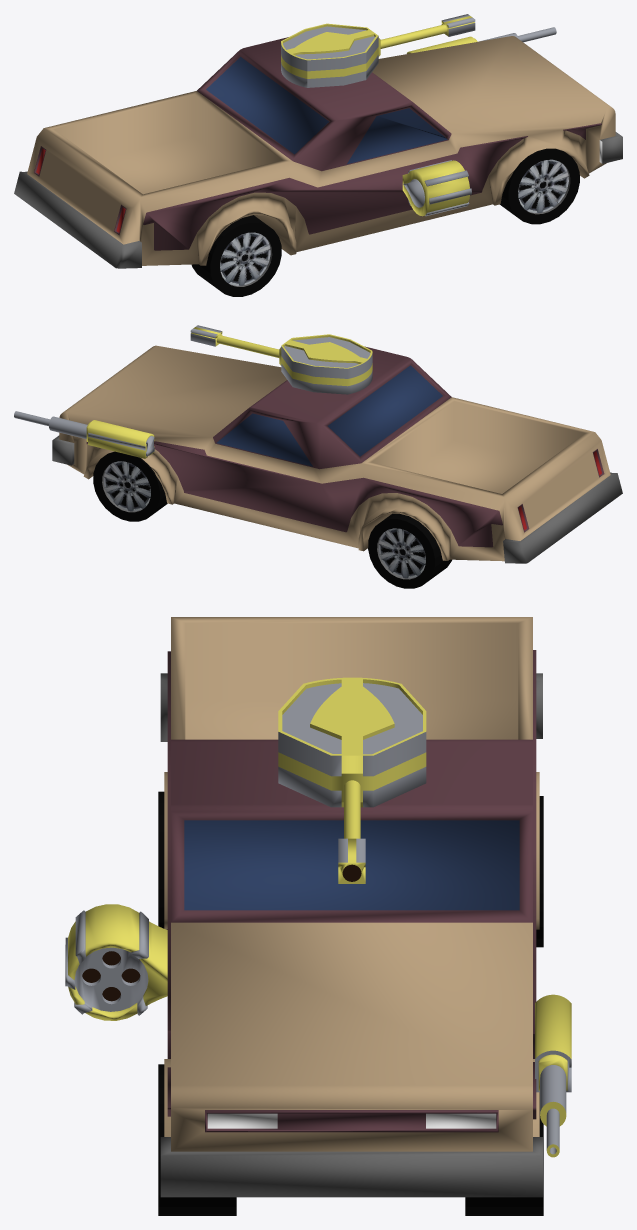
The model's file is Gina Togo.obj.
3 views of the same model, one above another, from view 1: azimuth 30°, elevation 25°; view 2: azimuth 150°, elevation 25°; view 3: azimuth 270°, elevation 25° (orthographic). The views are drawn at different scales.
Visible parts, largest first — view 1: Mesh1 Group3 Group2 Group1 Model, Mesh5 skpDDA5_1 Model, Mesh12 skpA3C9_4 Model, Mesh10 skpA3C9_3 Model, Mesh2 skp8442_1 Group2 Group1 Model, Mesh3 skpB6B8_1 Group1 Model, Mesh4 skpDDA5_1 Model; view 2: Mesh1 Group3 Group2 Group1 Model, Mesh5 skpDDA5_1 Model, Mesh8 skpA3C9_2 Model, Mesh6 skpA3C9_1 Model, Mesh3 skpB6B8_1 Group1 Model, Mesh4 skpDDA5_1 Model; view 3: Mesh1 Group3 Group2 Group1 Model, Mesh5 skpDDA5_1 Model, Mesh2 skp8442_1 Group2 Group1 Model, Mesh3 skpB6B8_1 Group1 Model, Mesh10 skpA3C9_3 Model, Mesh6 skpA3C9_1 Model, Mesh4 skpDDA5_1 Model, Mesh12 skpA3C9_4 Model, Mesh8 skpA3C9_2 Model.
Boxes of the visible parts, <box> form: Mesh1 Group3 Group2 Group1 Model: <box>14,36,622,268</box>; Mesh5 skpDDA5_1 Model: <box>281,23,447,87</box>; Mesh12 skpA3C9_4 Model: <box>191,215,281,296</box>; Mesh10 skpA3C9_3 Model: <box>500,148,579,224</box>; Mesh2 skp8442_1 Group2 Group1 Model: <box>402,160,471,216</box>; Mesh3 skpB6B8_1 Group1 Model: <box>406,27,556,53</box>; Mesh4 skpDDA5_1 Model: <box>441,14,475,36</box>; Mesh1 Group3 Group2 Group1 Model: <box>52,345,622,563</box>; Mesh5 skpDDA5_1 Model: <box>216,334,372,394</box>; Mesh8 skpA3C9_2 Model: <box>368,513,451,588</box>; Mesh6 skpA3C9_1 Model: <box>93,451,167,521</box>; Mesh3 skpB6B8_1 Group1 Model: <box>14,411,154,458</box>; Mesh4 skpDDA5_1 Model: <box>190,325,222,346</box>; Mesh1 Group3 Group2 Group1 Model: <box>160,617,542,1197</box>; Mesh5 skpDDA5_1 Model: <box>278,677,426,838</box>; Mesh2 skp8442_1 Group2 Group1 Model: <box>65,904,167,1020</box>; Mesh3 skpB6B8_1 Group1 Model: <box>535,994,571,1157</box>; Mesh10 skpA3C9_3 Model: <box>158,1064,236,1215</box>; Mesh6 skpA3C9_1 Model: <box>465,1092,543,1215</box>; Mesh4 skpDDA5_1 Model: <box>338,838,365,883</box>; Mesh12 skpA3C9_4 Model: <box>158,791,167,929</box>; Mesh8 skpA3C9_2 Model: <box>536,796,543,947</box>.
Bounding box in the file's own units: 3.44 × 1.11 × 1.48.
